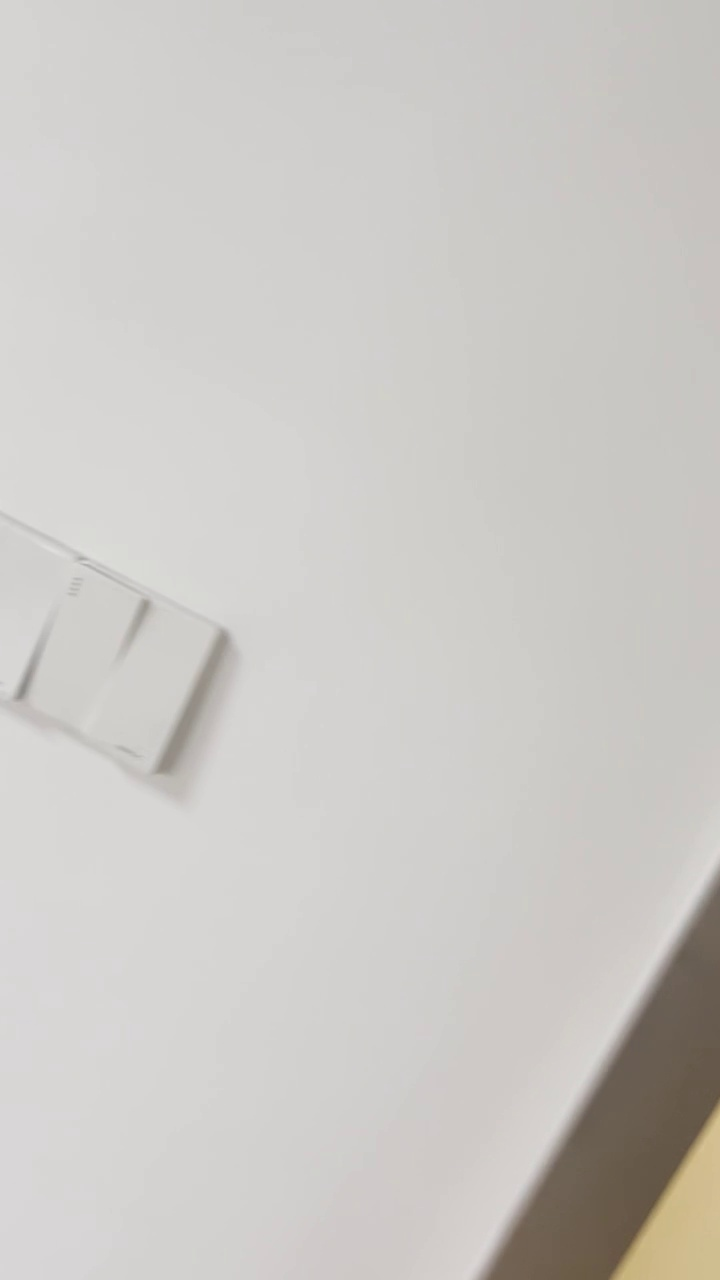button: (15, 550, 234, 776)
